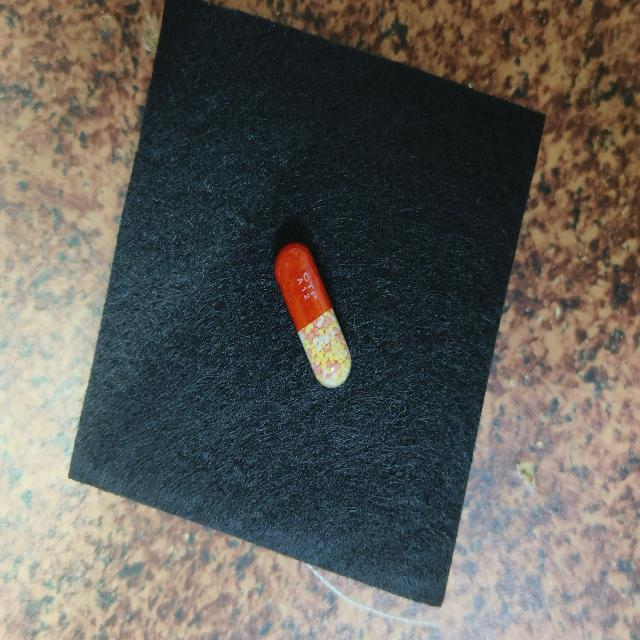Intact Capsule: (274, 243, 351, 388)
